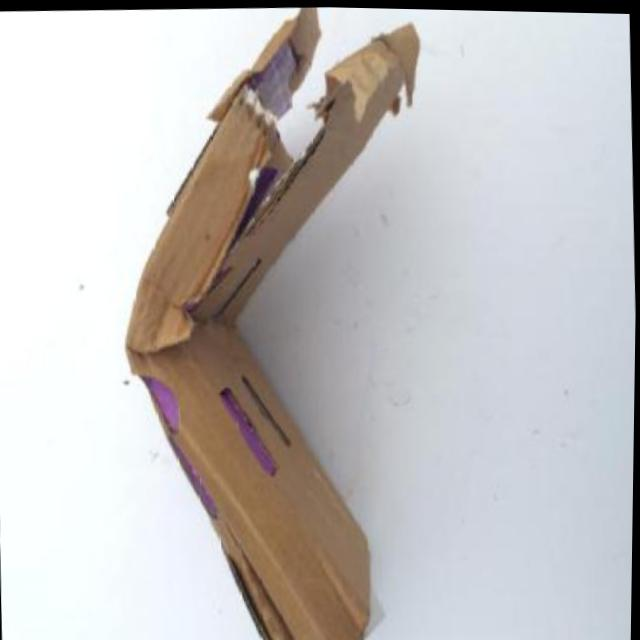box: (105, 2, 476, 640)
